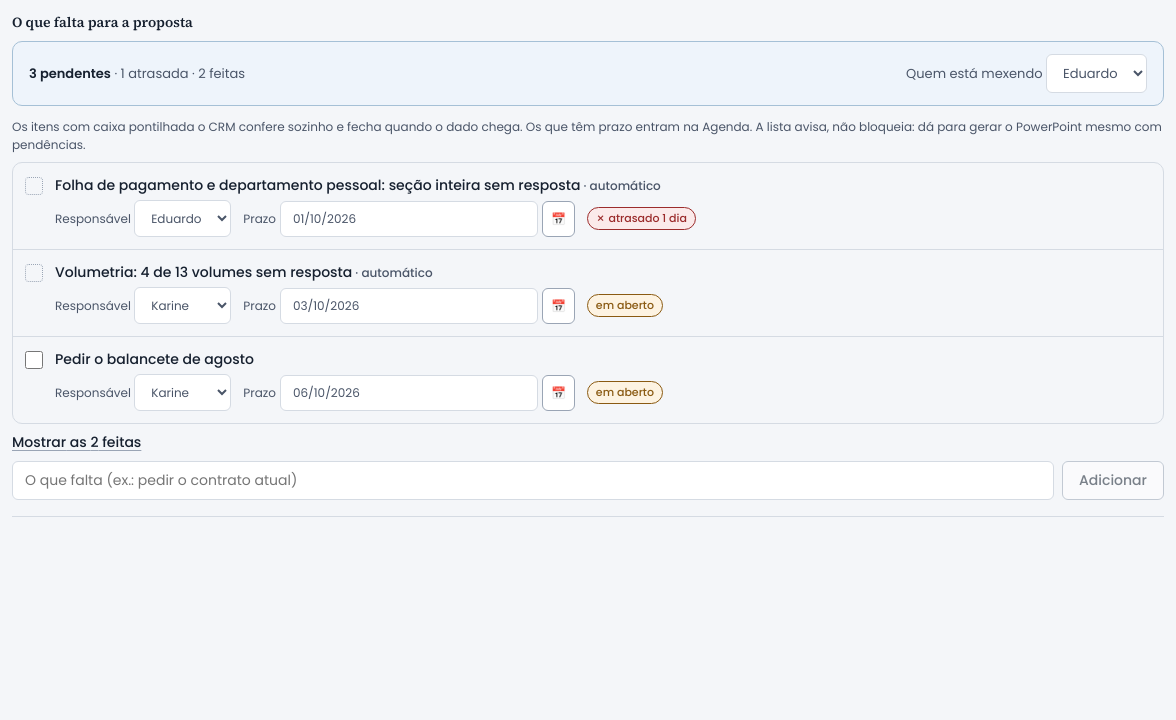
Test: O que falta para a proposta › mostra as feitas sob pedido, com quem e quando
Click the button "Mostrar as 2 feitas".
click(39, 442)  # box [12,432,1164,453]
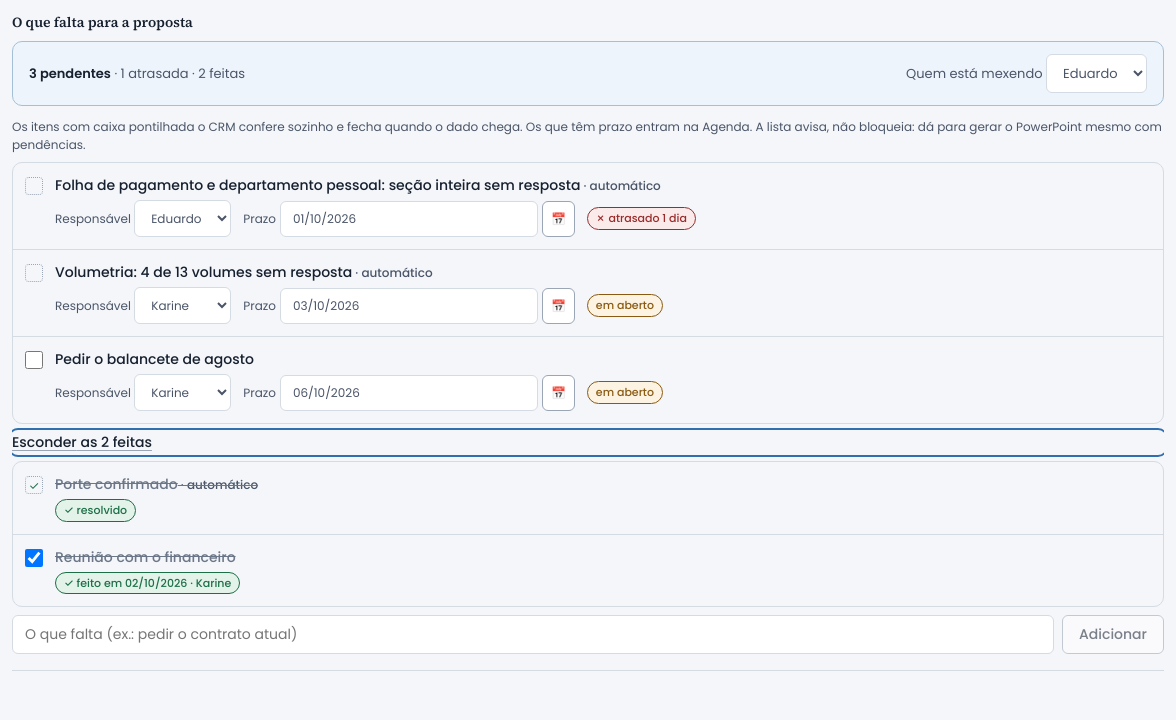
Expected: the text "✓ resolvido" is shown, [55,499,136,522]
Expected: the text "✓ feito em 02/10/2026 · Karine" is shown, [55,572,240,594]
